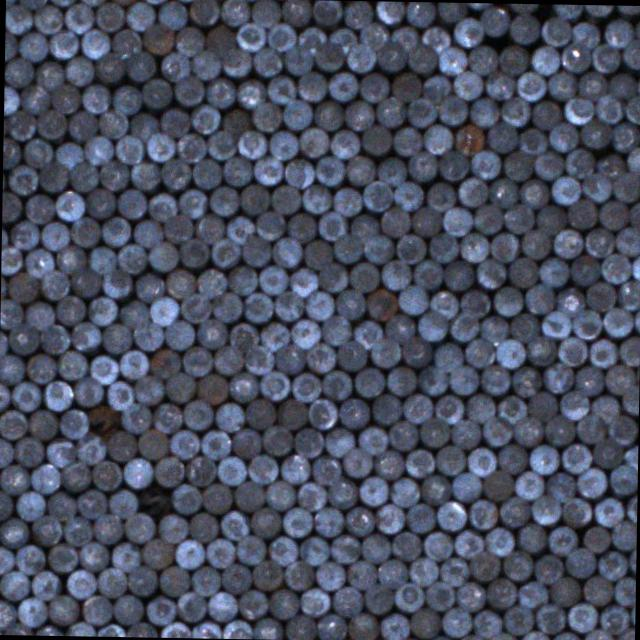tool: (214, 96, 259, 140), (590, 494, 626, 528), (541, 412, 575, 446), (502, 546, 534, 582), (44, 488, 78, 521), (481, 468, 514, 502), (53, 292, 86, 326), (6, 270, 40, 303), (499, 602, 534, 634), (42, 436, 77, 468), (21, 246, 56, 278), (28, 461, 61, 494), (55, 242, 88, 275), (156, 563, 190, 595), (12, 434, 44, 468), (540, 360, 574, 392), (502, 202, 536, 234), (514, 68, 546, 102), (596, 198, 630, 230), (530, 98, 564, 130), (142, 22, 174, 56), (204, 20, 236, 54), (524, 282, 555, 317), (468, 549, 501, 581), (276, 397, 308, 430), (495, 392, 528, 424), (479, 363, 512, 395), (494, 337, 527, 369), (527, 442, 560, 474), (560, 441, 592, 474), (366, 287, 398, 320), (209, 236, 242, 268), (207, 184, 240, 216), (298, 125, 330, 158), (452, 122, 485, 154), (485, 120, 518, 152), (358, 70, 391, 102), (584, 279, 616, 312), (29, 514, 63, 545), (558, 497, 592, 528), (574, 466, 608, 497), (54, 188, 85, 222), (412, 258, 443, 292), (474, 257, 508, 288), (344, 41, 378, 72), (131, 270, 166, 300), (330, 584, 362, 616), (96, 566, 128, 598), (566, 600, 598, 632), (486, 576, 518, 608), (517, 578, 549, 610), (564, 546, 596, 578), (42, 379, 74, 411), (142, 536, 174, 568), (204, 536, 236, 568), (312, 504, 344, 536), (404, 502, 436, 534), (435, 500, 467, 532), (170, 482, 202, 514), (122, 457, 154, 489), (136, 426, 168, 458), (120, 402, 152, 434), (386, 362, 418, 394), (181, 344, 213, 376), (210, 290, 242, 322), (286, 264, 318, 296), (380, 259, 412, 291), (285, 210, 317, 242), (114, 187, 146, 219), (145, 190, 177, 222), (270, 182, 302, 214), (98, 159, 130, 191), (282, 156, 314, 188), (314, 153, 346, 185), (437, 148, 469, 180), (502, 148, 534, 180), (405, 96, 437, 128), (484, 68, 516, 100), (590, 41, 622, 73), (602, 16, 634, 48), (48, 26, 80, 58), (29, 568, 62, 599), (78, 539, 109, 572), (174, 537, 205, 570), (248, 507, 281, 538), (233, 478, 264, 511), (246, 453, 279, 484), (310, 453, 343, 484), (496, 442, 529, 473), (130, 320, 163, 351), (178, 237, 209, 270), (164, 212, 195, 245), (457, 175, 488, 208), (467, 95, 500, 126), (467, 43, 498, 76), (479, 4, 510, 37), (63, 1, 94, 34), (264, 588, 298, 618), (250, 558, 284, 588), (219, 508, 249, 542), (76, 432, 106, 466), (604, 415, 638, 445), (554, 335, 588, 365), (21, 192, 55, 222), (444, 257, 474, 291), (373, 154, 407, 184), (578, 118, 612, 148), (81, 593, 112, 625), (174, 590, 206, 621), (125, 564, 156, 596), (218, 562, 250, 593), (532, 602, 564, 633), (532, 552, 564, 583), (47, 542, 78, 574), (7, 322, 39, 353), (110, 538, 141, 570), (298, 533, 330, 564), (452, 527, 484, 558), (92, 512, 123, 544), (123, 511, 154, 543), (156, 512, 188, 543), (188, 511, 220, 542), (467, 498, 498, 530), (201, 482, 233, 513), (264, 478, 296, 509), (328, 476, 359, 508), (184, 455, 216, 486), (373, 448, 405, 479), (432, 392, 464, 423), (226, 371, 258, 402), (290, 316, 322, 347), (352, 317, 384, 348), (416, 308, 448, 339), (607, 464, 638, 496), (590, 437, 622, 468), (558, 388, 590, 419), (604, 362, 635, 394), (588, 337, 620, 368), (84, 187, 116, 218), (6, 163, 38, 194), (36, 108, 68, 139), (19, 82, 50, 114), (118, 296, 149, 328), (149, 294, 180, 326), (242, 290, 273, 322), (493, 284, 524, 316), (349, 260, 380, 292), (241, 236, 272, 268), (132, 218, 164, 249), (317, 209, 349, 240), (442, 206, 474, 237), (488, 176, 519, 208), (191, 157, 223, 188), (406, 149, 438, 180), (392, 125, 424, 156), (453, 68, 484, 100), (377, 40, 408, 72), (546, 121, 578, 152), (576, 68, 607, 100), (16, 30, 48, 61), (80, 26, 111, 58), (93, 1, 125, 32), (205, 590, 238, 620), (422, 579, 455, 609), (580, 574, 613, 604), (278, 453, 311, 483), (258, 369, 291, 399), (446, 364, 479, 394), (147, 347, 180, 377), (304, 342, 337, 372), (574, 411, 604, 444), (21, 300, 54, 330), (68, 266, 101, 296), (458, 286, 491, 316), (253, 210, 286, 240), (239, 183, 269, 216), (469, 149, 502, 179), (268, 127, 298, 160), (359, 124, 392, 154), (250, 102, 283, 132), (435, 95, 468, 125), (499, 96, 532, 126), (31, 2, 64, 32), (157, 0, 190, 30), (17, 595, 48, 626), (27, 408, 58, 439), (420, 474, 451, 505), (342, 447, 373, 478), (199, 428, 230, 459), (451, 418, 482, 449), (165, 371, 196, 402), (516, 521, 547, 552), (512, 468, 543, 499), (573, 364, 604, 395), (570, 309, 601, 340), (70, 216, 101, 247), (68, 161, 99, 192), (80, 81, 111, 112), (4, 56, 35, 87), (94, 53, 125, 84), (165, 266, 196, 297), (380, 206, 411, 237), (393, 179, 424, 210), (110, 84, 141, 115), (391, 71, 422, 102), (452, 16, 483, 47), (48, 594, 80, 624), (64, 568, 96, 598), (409, 606, 439, 638), (112, 594, 144, 624), (313, 559, 345, 589), (598, 602, 630, 632), (548, 574, 580, 604), (16, 542, 46, 574), (15, 488, 45, 520), (59, 406, 89, 438), (10, 380, 42, 410), (24, 352, 56, 382), (56, 350, 88, 380), (236, 534, 266, 566), (266, 534, 298, 564), (330, 532, 360, 564), (390, 530, 422, 560), (484, 526, 516, 556), (282, 506, 312, 538), (344, 504, 374, 536), (498, 496, 530, 526), (76, 488, 108, 518), (296, 480, 328, 510), (388, 476, 420, 506), (106, 430, 138, 460), (166, 428, 198, 458), (230, 428, 262, 458), (262, 423, 292, 455), (292, 426, 324, 456), (356, 424, 388, 454), (418, 416, 450, 446), (212, 401, 244, 431), (244, 398, 276, 428), (338, 396, 370, 426), (372, 392, 402, 424), (402, 390, 432, 422), (464, 392, 496, 422), (72, 376, 104, 406), (195, 372, 227, 402), (353, 366, 385, 396), (418, 364, 448, 396), (88, 352, 118, 384), (212, 344, 244, 374), (274, 344, 306, 374), (369, 336, 401, 366), (162, 320, 194, 350), (194, 318, 226, 348), (543, 470, 575, 500), (512, 414, 542, 446), (508, 310, 540, 340), (100, 215, 130, 247), (38, 160, 68, 192), (22, 136, 54, 166), (66, 109, 98, 139), (48, 82, 80, 112), (34, 58, 66, 88), (64, 54, 94, 86), (179, 292, 211, 322), (304, 288, 334, 320), (102, 266, 132, 298), (195, 267, 227, 297), (258, 262, 288, 294), (396, 232, 426, 264), (509, 256, 539, 288), (411, 205, 441, 237), (333, 184, 363, 216), (424, 180, 456, 210), (160, 158, 192, 188), (344, 154, 374, 186), (236, 128, 268, 158), (517, 124, 547, 156), (344, 98, 374, 130), (375, 96, 405, 128), (140, 76, 172, 106), (172, 74, 204, 104), (325, 70, 357, 100), (125, 50, 157, 80), (190, 50, 222, 80), (220, 48, 252, 78), (250, 46, 282, 76), (407, 42, 437, 74), (520, 229, 552, 259), (552, 228, 584, 258), (536, 204, 568, 234), (518, 178, 550, 208), (534, 149, 564, 181), (610, 120, 640, 152), (560, 40, 590, 72), (508, 14, 540, 44), (175, 24, 205, 56), (346, 611, 379, 640), (0, 514, 29, 547), (225, 322, 260, 349), (144, 595, 174, 626), (344, 559, 375, 589), (407, 556, 438, 586), (596, 547, 626, 578), (0, 463, 30, 494), (70, 320, 101, 350), (374, 502, 404, 533), (451, 471, 482, 501), (91, 460, 122, 490), (153, 456, 184, 486), (388, 419, 418, 450), (482, 416, 513, 446), (243, 344, 274, 374), (401, 336, 432, 366), (432, 340, 463, 370), (464, 338, 495, 368), (385, 314, 416, 344), (478, 313, 509, 343), (510, 365, 540, 396), (39, 269, 70, 299), (9, 218, 40, 248), (40, 220, 71, 250), (5, 110, 36, 140), (227, 264, 257, 295), (318, 262, 348, 293), (116, 242, 147, 272), (271, 236, 301, 267), (302, 239, 332, 270), (427, 232, 458, 262), (458, 232, 489, 262), (488, 230, 518, 261), (222, 155, 253, 185), (159, 106, 190, 136), (189, 104, 220, 134), (312, 100, 343, 130), (203, 77, 234, 107), (234, 78, 265, 108), (265, 73, 295, 104), (282, 44, 313, 74), (313, 40, 344, 70), (436, 44, 467, 74), (569, 253, 600, 283), (564, 147, 594, 178), (530, 44, 560, 75), (540, 14, 570, 45), (126, 1, 157, 31), (377, 611, 409, 640), (182, 399, 214, 428), (98, 109, 130, 138), (611, 171, 640, 203), (0, 569, 30, 599), (441, 606, 471, 636), (299, 586, 329, 616), (363, 582, 393, 612), (394, 581, 424, 611), (189, 564, 219, 594), (284, 559, 314, 589), (376, 556, 406, 586), (62, 515, 92, 545), (60, 461, 90, 491), (40, 324, 70, 354), (360, 532, 390, 562), (423, 530, 453, 560), (358, 475, 388, 505), (436, 444, 466, 474), (466, 446, 496, 476), (324, 426, 354, 456), (308, 398, 338, 428), (291, 370, 321, 400), (118, 348, 148, 378), (337, 340, 367, 370), (260, 319, 290, 349), (448, 310, 478, 340), (546, 525, 576, 555), (530, 494, 560, 524), (528, 390, 558, 420), (590, 392, 620, 422), (526, 336, 556, 366), (84, 134, 114, 164), (86, 294, 116, 324), (274, 290, 304, 320), (335, 288, 365, 318), (398, 284, 428, 314), (430, 288, 460, 318), (148, 240, 178, 270), (196, 212, 226, 242), (474, 203, 504, 233), (177, 186, 207, 216), (130, 160, 160, 190), (252, 154, 282, 184), (329, 128, 359, 158), (128, 111, 158, 141), (296, 70, 326, 100), (160, 51, 190, 81), (498, 44, 528, 74), (554, 284, 584, 314), (538, 256, 568, 286), (600, 252, 630, 282), (584, 226, 614, 256), (550, 174, 580, 204), (564, 94, 594, 124), (296, 24, 326, 54), (470, 608, 501, 637), (540, 310, 571, 339), (364, 234, 395, 263), (421, 23, 452, 52), (236, 588, 266, 617), (152, 403, 182, 432), (322, 369, 352, 398), (321, 315, 351, 344), (602, 308, 632, 337), (176, 132, 206, 161), (422, 73, 452, 102), (593, 94, 622, 124), (546, 70, 576, 99), (236, 22, 266, 51), (133, 375, 164, 403), (100, 323, 131, 351), (53, 140, 84, 168), (88, 243, 116, 274), (332, 234, 363, 262), (348, 212, 379, 240), (146, 131, 174, 162), (608, 70, 636, 101), (569, 20, 600, 48), (110, 28, 141, 56), (342, 0, 373, 28), (225, 214, 254, 243), (316, 612, 346, 640), (454, 581, 484, 609), (438, 556, 468, 584), (108, 487, 136, 517), (405, 448, 435, 476), (302, 184, 332, 212), (567, 200, 597, 228), (266, 23, 296, 51), (389, 23, 419, 51), (327, 24, 358, 51), (358, 22, 389, 49), (219, 0, 250, 27), (252, 614, 284, 640), (611, 519, 637, 551), (594, 152, 626, 178), (281, 0, 313, 26), (363, 181, 391, 210), (115, 134, 144, 162), (206, 130, 235, 158), (423, 123, 452, 151), (284, 100, 312, 129), (582, 173, 610, 202), (4, 4, 32, 33), (582, 526, 610, 554), (0, 408, 27, 437), (251, 0, 280, 27), (284, 614, 314, 640), (614, 225, 640, 255), (406, 1, 436, 27), (615, 280, 640, 311), (218, 456, 245, 484), (105, 381, 133, 408), (313, 0, 342, 25), (0, 353, 24, 383), (189, 0, 219, 24), (618, 334, 640, 366), (613, 575, 636, 605), (222, 617, 252, 639), (0, 297, 22, 327), (0, 244, 22, 274), (190, 618, 222, 638), (375, 0, 404, 22), (1, 192, 22, 222), (2, 137, 22, 168), (620, 384, 639, 415), (621, 94, 640, 125), (622, 38, 640, 69), (160, 620, 190, 638), (438, 2, 468, 20), (0, 542, 16, 574), (65, 620, 96, 636), (125, 622, 156, 638), (625, 144, 640, 175), (0, 597, 16, 626), (4, 84, 20, 113), (0, 488, 14, 521), (552, 4, 582, 19), (96, 621, 124, 637), (622, 444, 638, 471), (0, 436, 13, 467), (583, 627, 613, 640), (5, 30, 18, 60), (628, 200, 640, 230), (520, 629, 551, 640), (551, 630, 582, 640), (15, 0, 46, 8)
tool_b: (126, 470, 184, 526), (76, 392, 134, 447)
